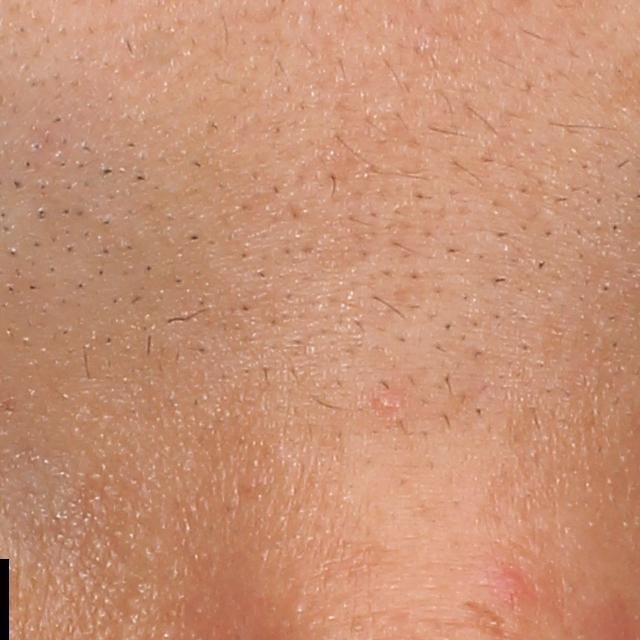papule: (486, 563, 539, 613)
